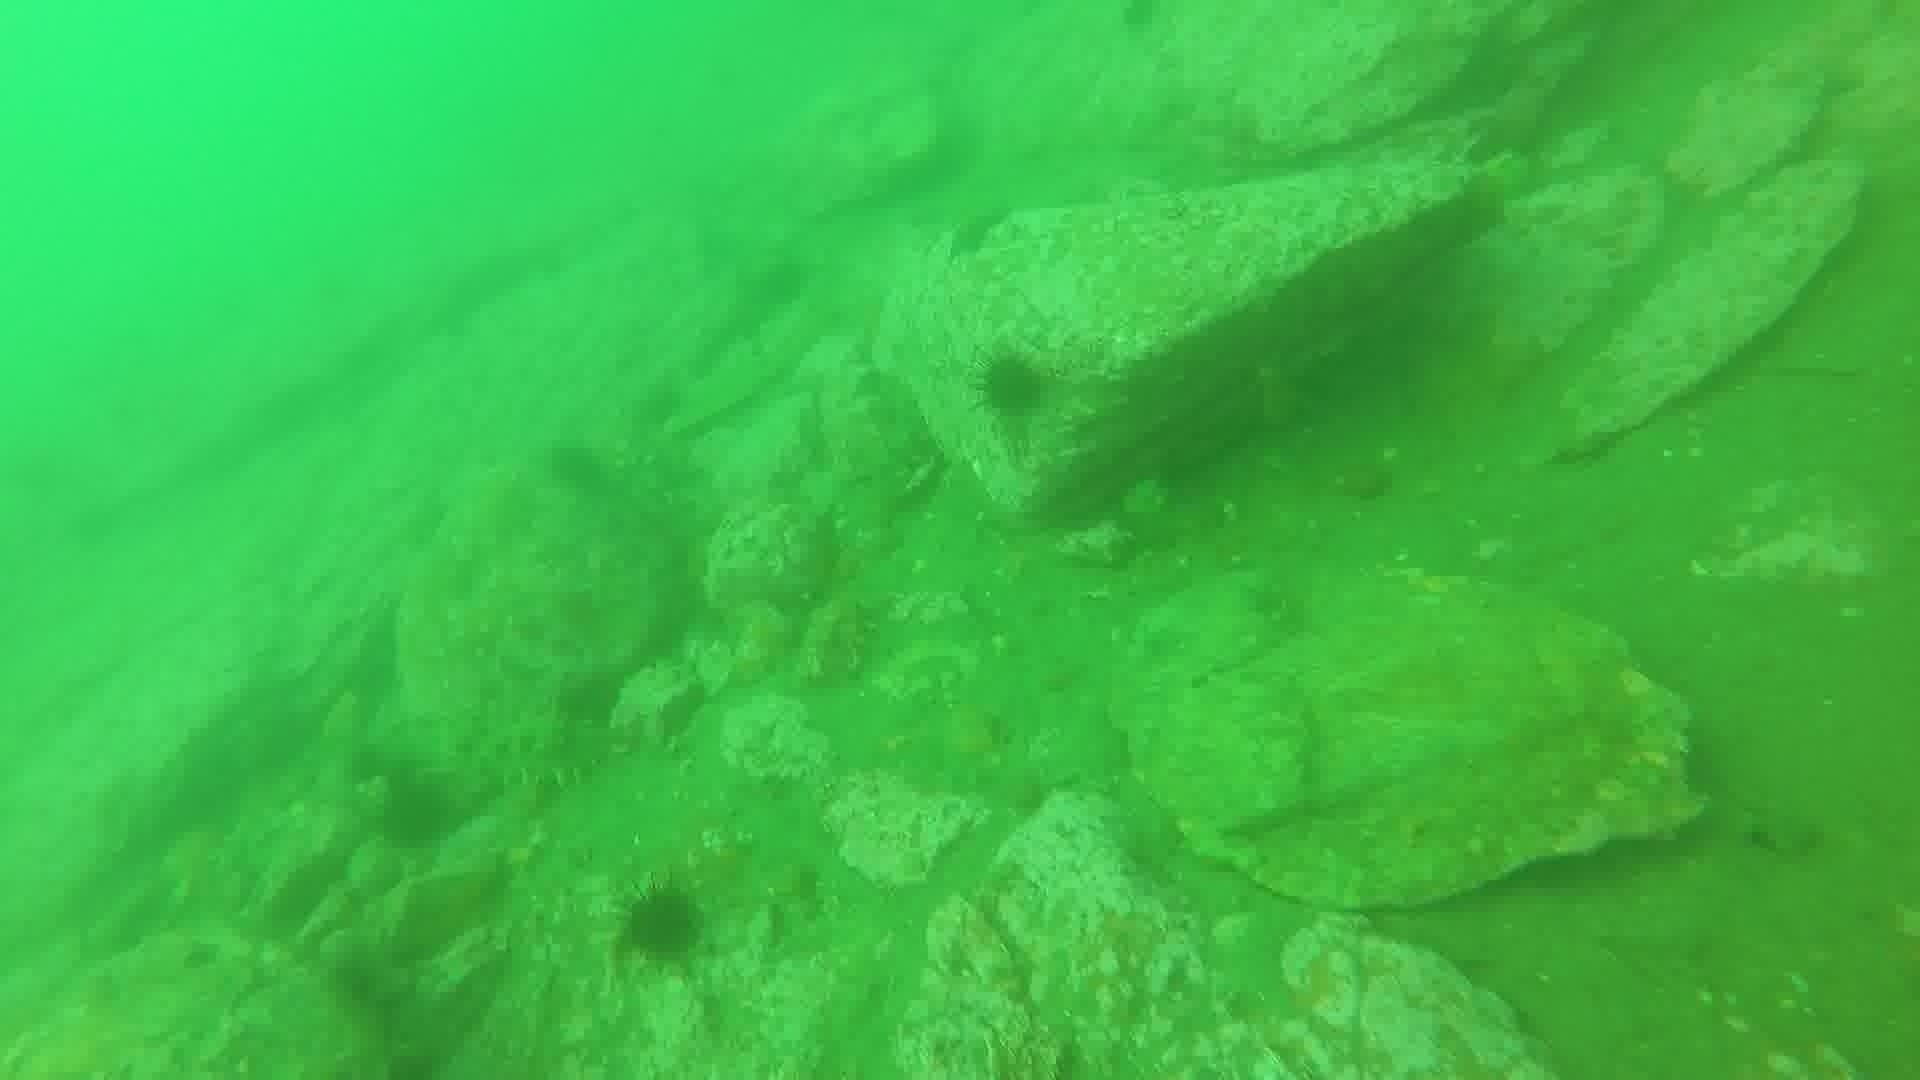echinus: (615, 880, 711, 969), (372, 773, 459, 855), (972, 345, 1054, 422), (541, 435, 613, 500)
holothurian: (475, 717, 625, 796)
